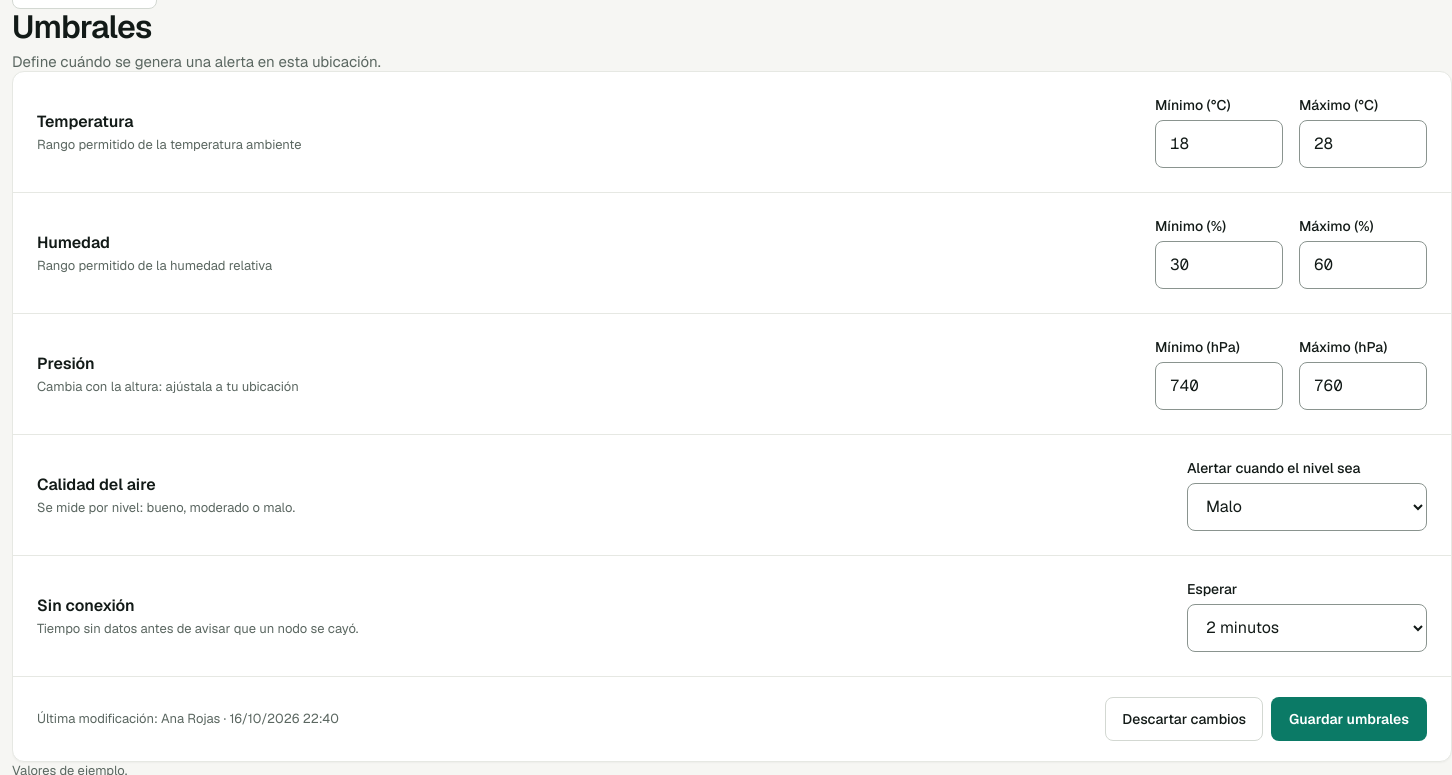
Umbrales › bloquea guardar si el mínimo es inválido:
Clear the number field named "Temperatura: mínimo (°C)" at (1219, 144), box [1155, 120, 1283, 168]
(page scrolled)
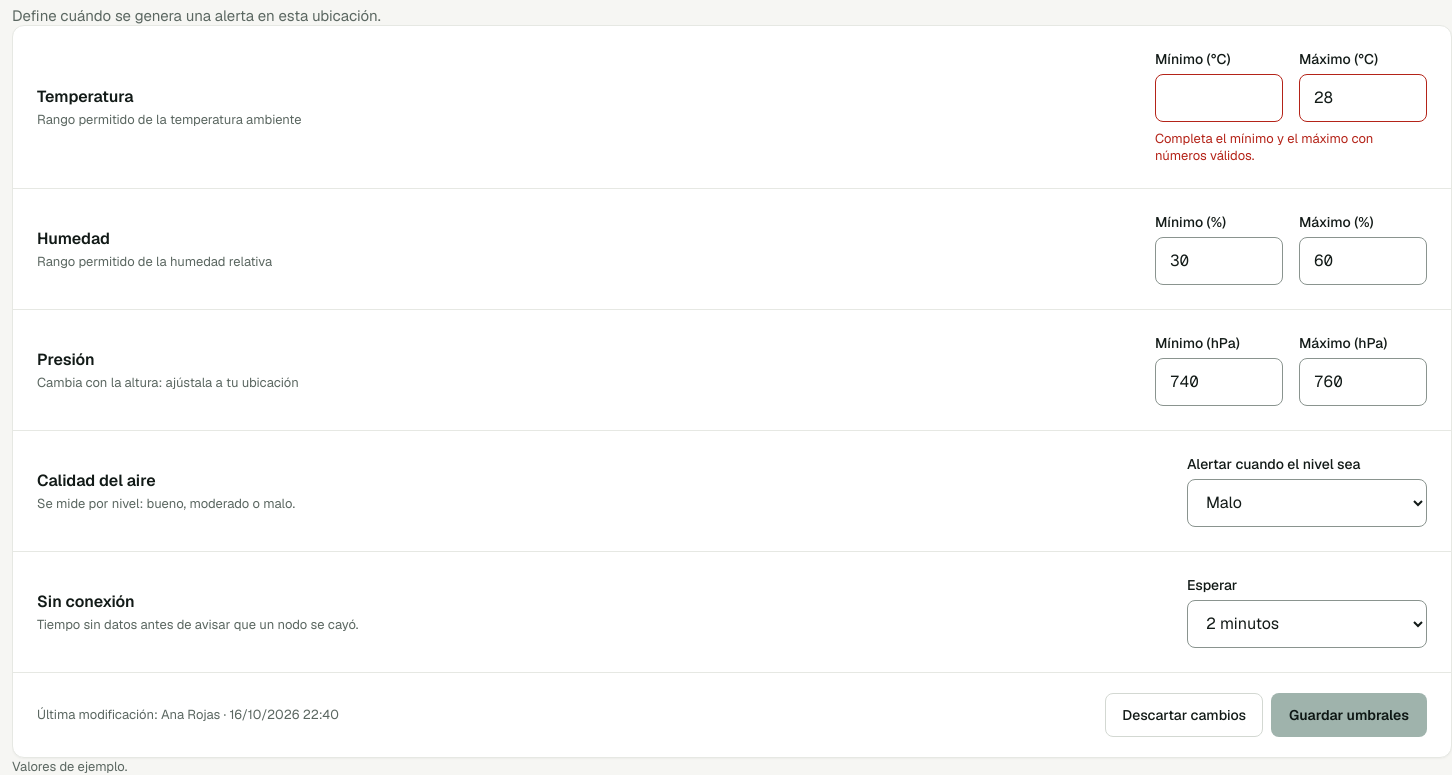
Now the button "Guardar umbrales" is disabled, box [1271, 693, 1427, 737]
Submit the form
Type "19" into the number field named "Temperatura: mínimo (°C)" at (1219, 98), box [1155, 74, 1283, 122]
(page scrolled)
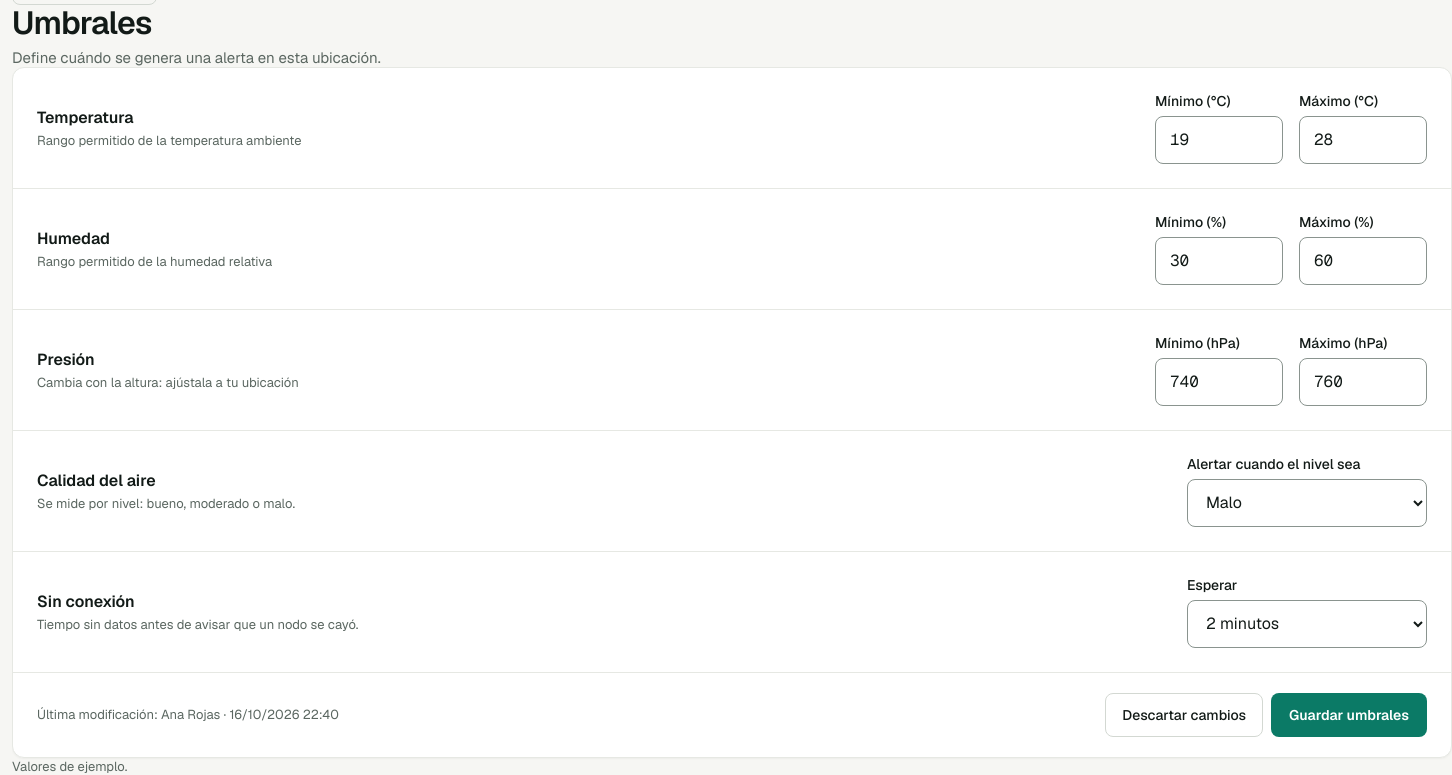
Now the button "Guardar umbrales" is enabled, box [1271, 693, 1427, 737]
